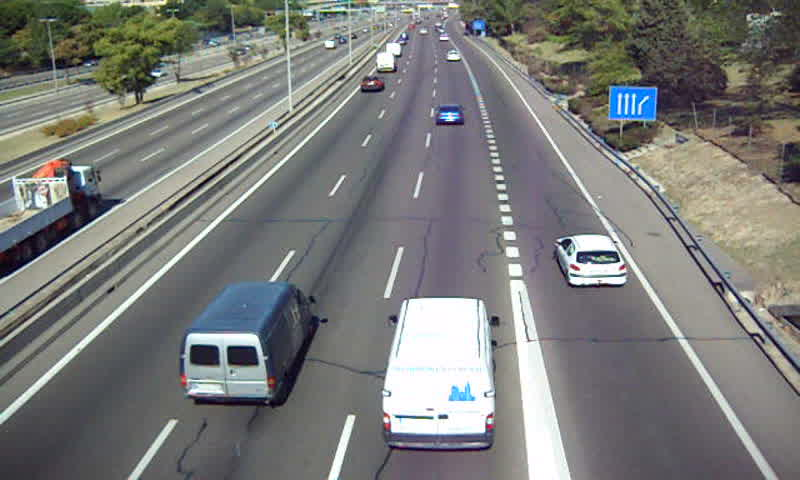car: (554, 234, 628, 289), (433, 104, 466, 126), (359, 74, 384, 92)
van: (383, 297, 496, 452), (183, 281, 316, 403), (374, 52, 396, 73)
